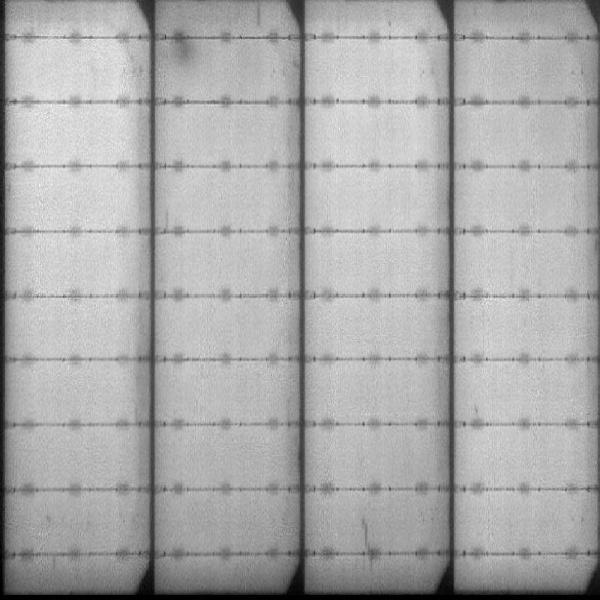scratch: (356, 516, 378, 576)
